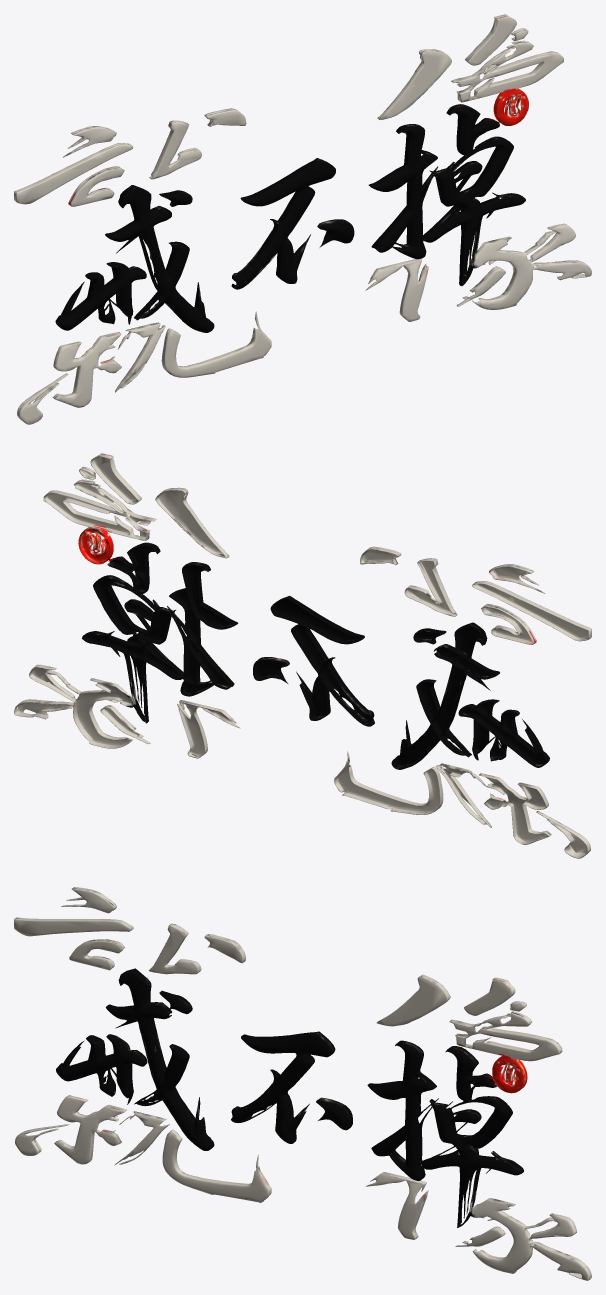
Rendered from calligraphy.glb.
3 renders of one model, top to bottom at view 1: azimuth 30°, elevation 25°; view 2: azimuth 150°, elevation 25°; view 3: azimuth 330°, elevation 25°, orthographic.
Parts seen in each view (by area): view 1: node_0; view 2: node_0; view 3: node_0.
Part boxes in pixels (box(x1,y1,x2,y2)): node_0: box(14, 14, 591, 424); node_0: box(14, 453, 591, 858); node_0: box(14, 887, 591, 1280).
Bounding box in the file's own units: 1.1 × 0.5317 × 0.0284.
1 material, 1 textured.
